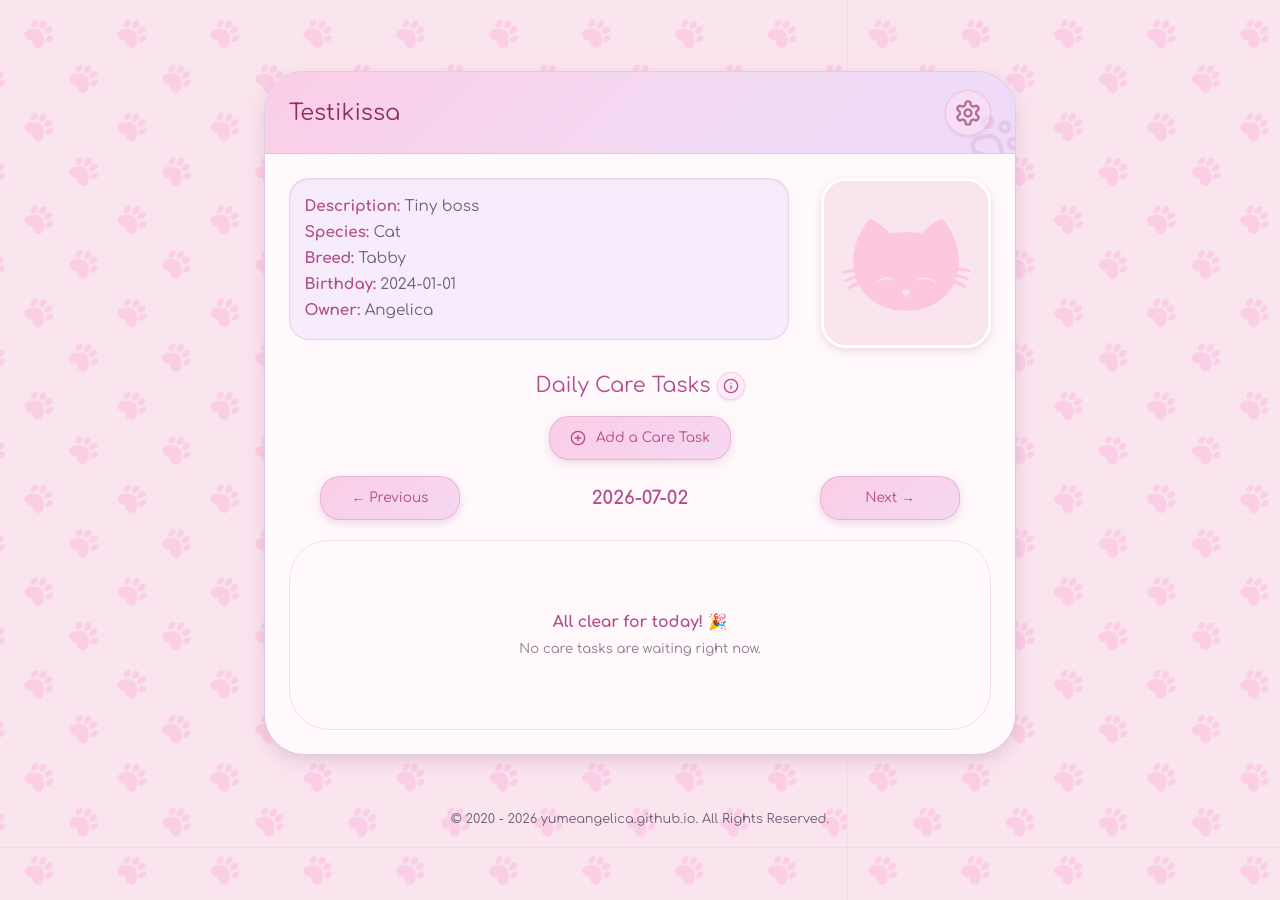
Test case: PagePet - care tasks › uses future-specific empty copy when a future day has no generated tasks
What coordinates should you click on to do the following:
click the button "Next →"
I would click on:
 (890, 498)
Its box is [820,476,960,520].
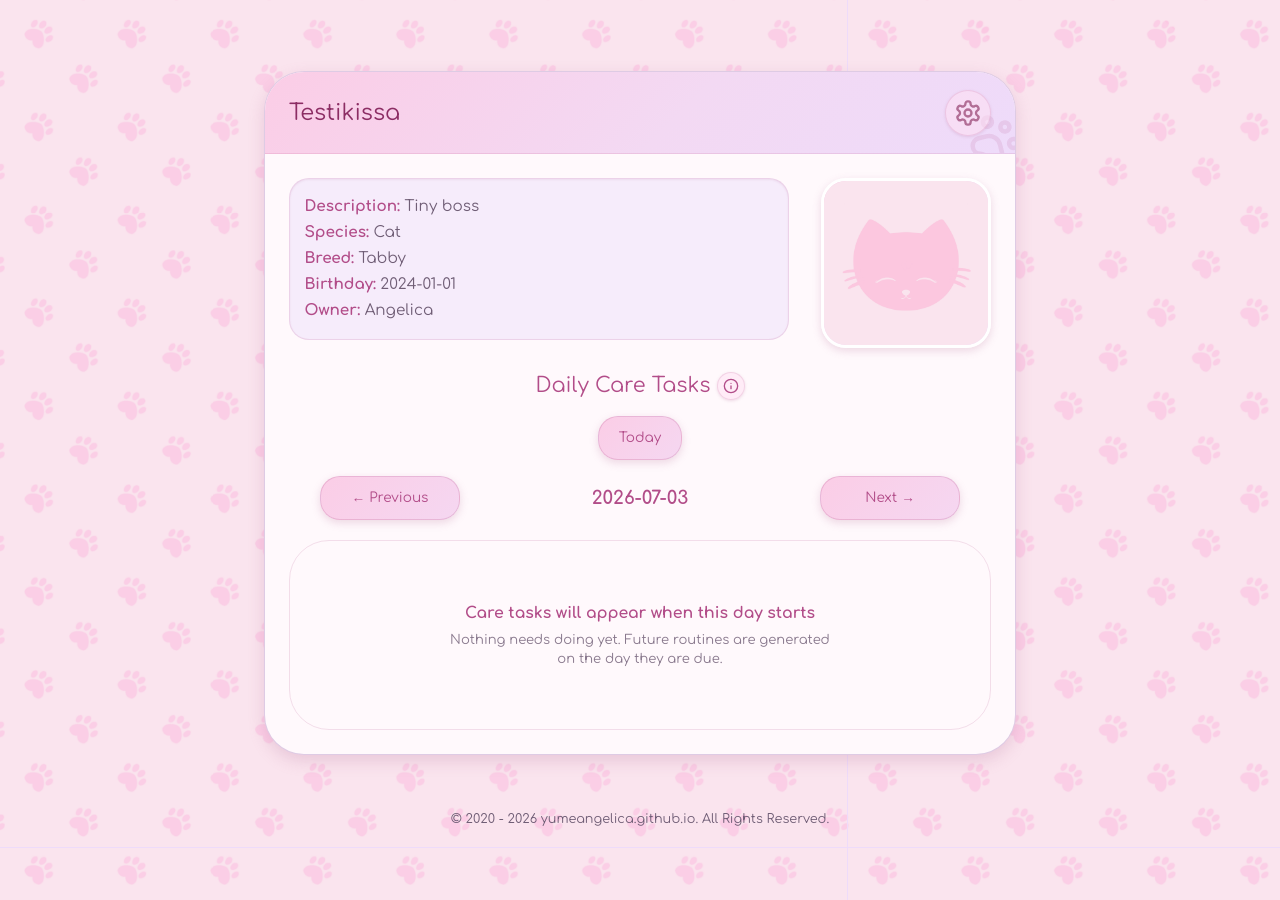
Result: the text "All clear for today!" is gone
Result: the text "Care tasks will appear when this day starts" is shown at [465,603,815,624]
Result: the text "Future routines are generated on the day they are due." is shown at [450,632,830,666]
